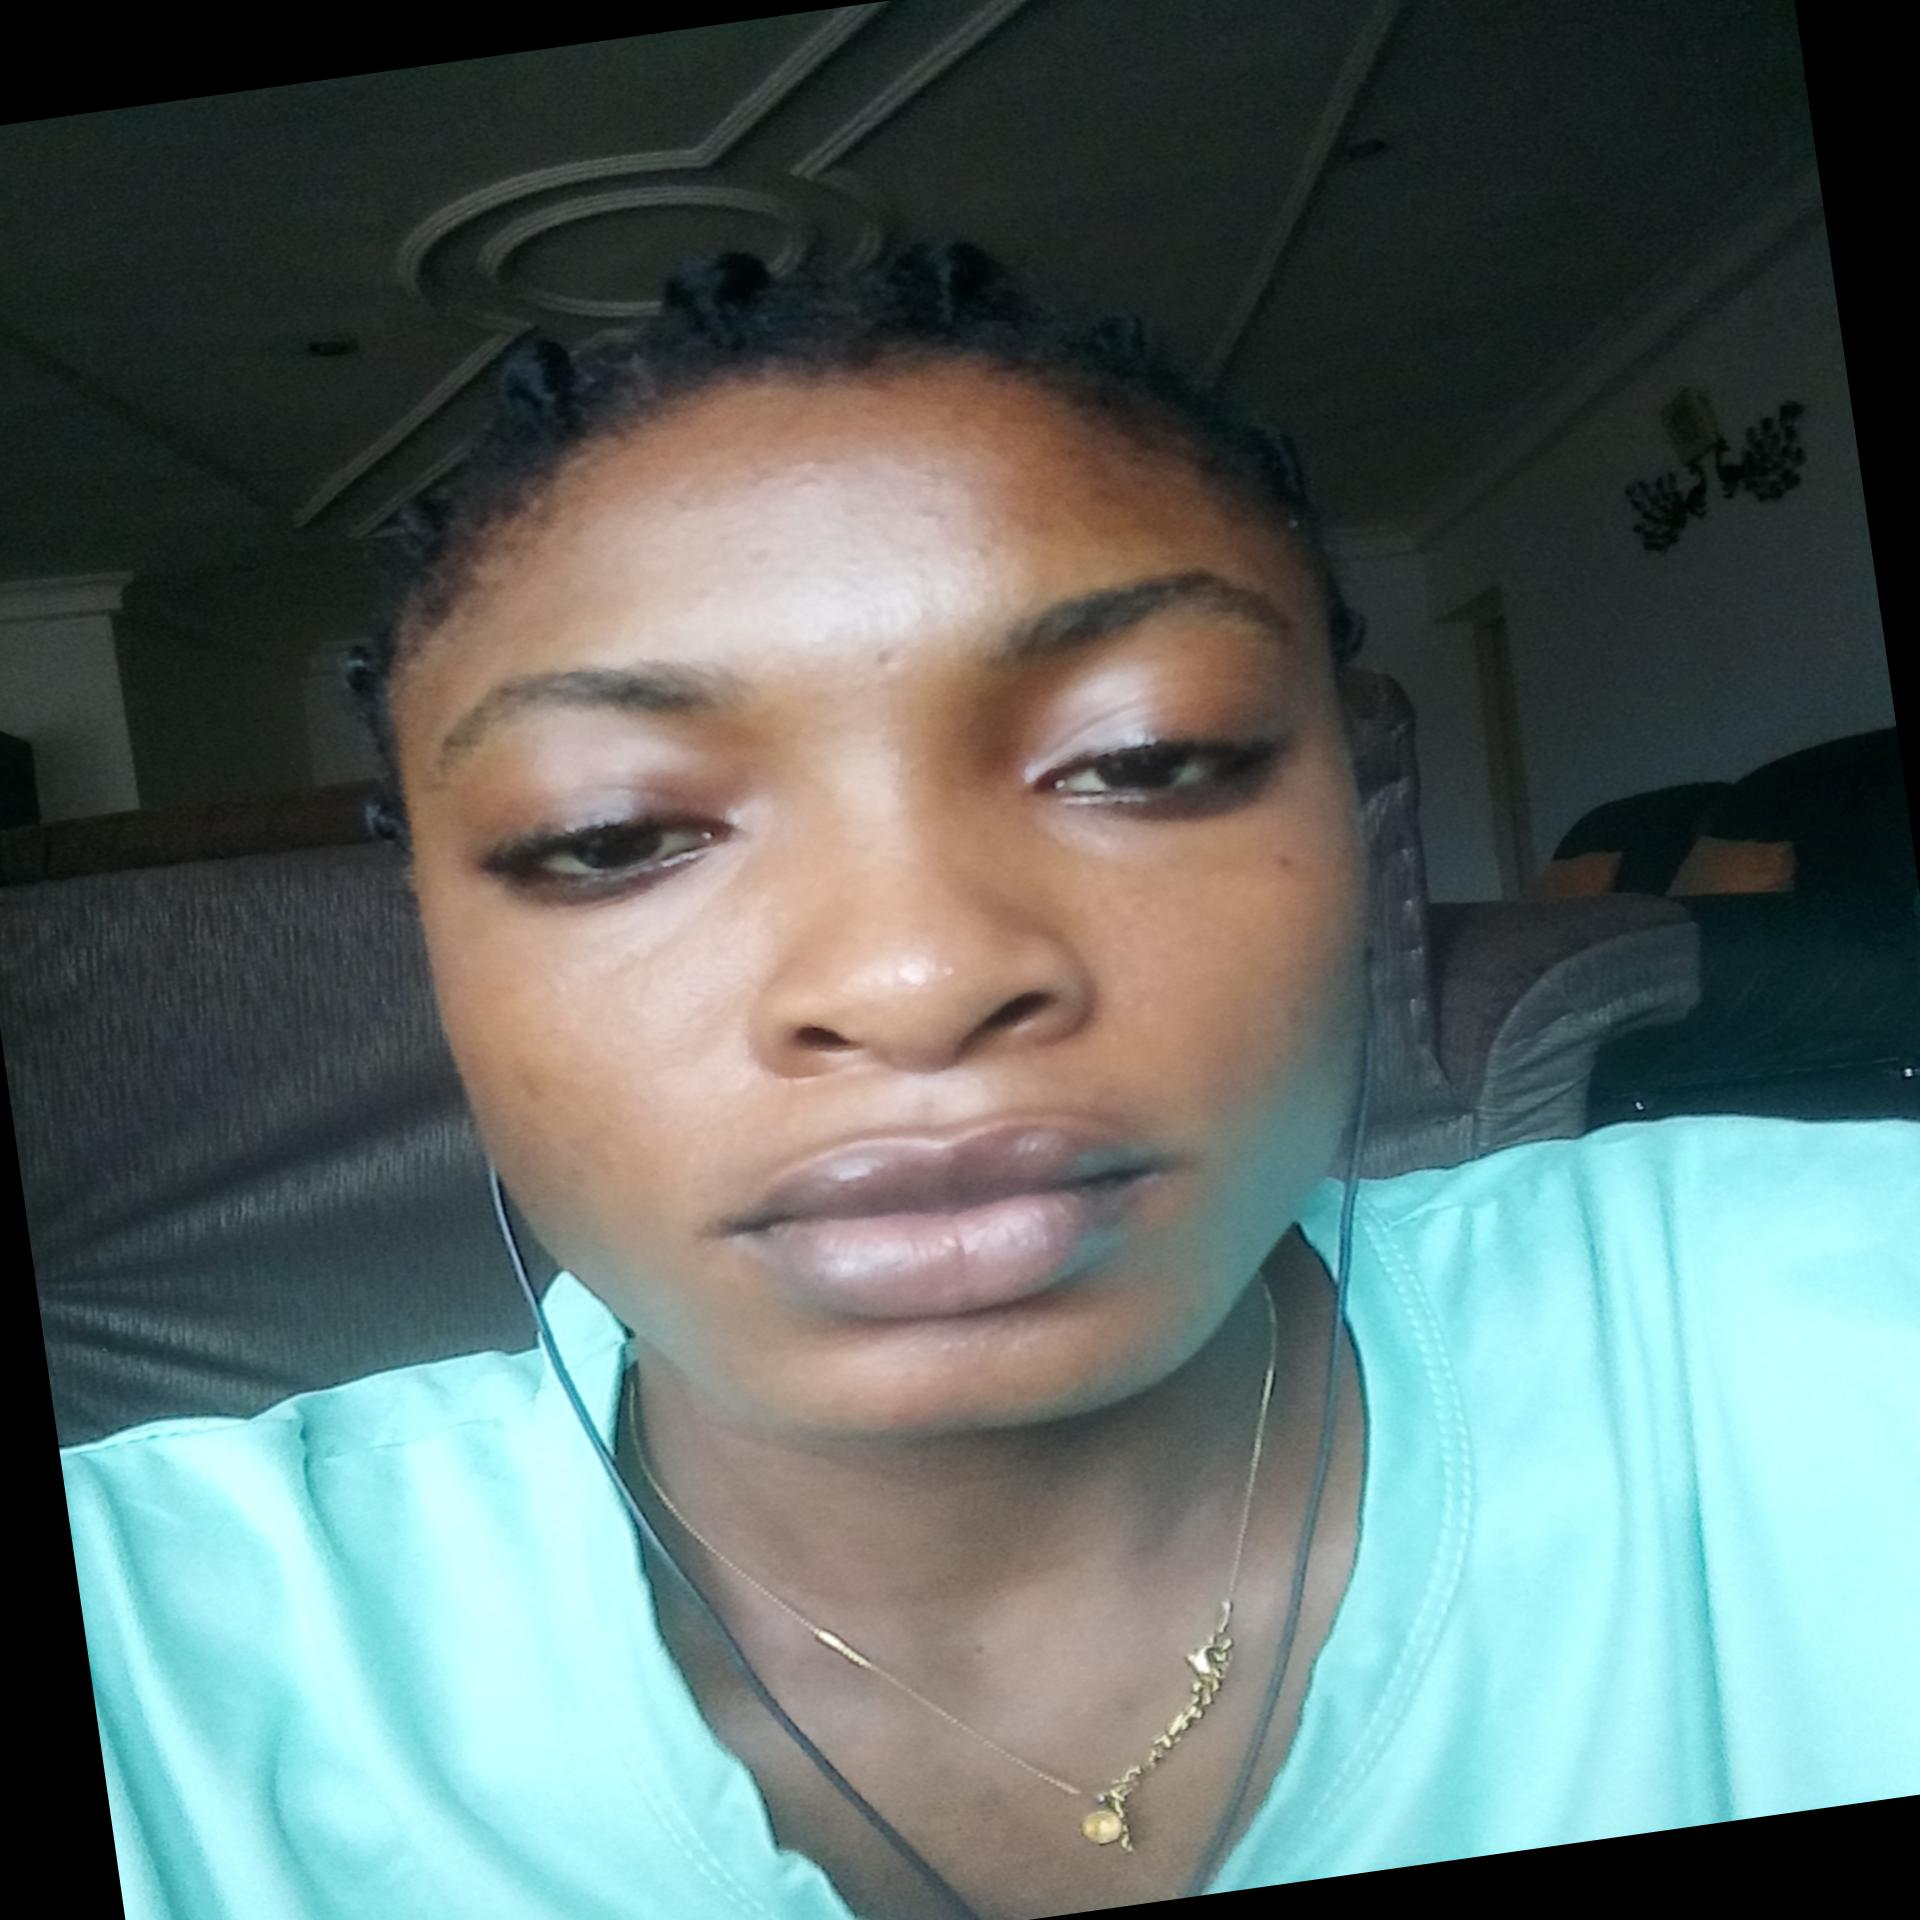Acne: (909, 499, 955, 536), (905, 462, 949, 485), (956, 543, 992, 570), (789, 454, 825, 475)
